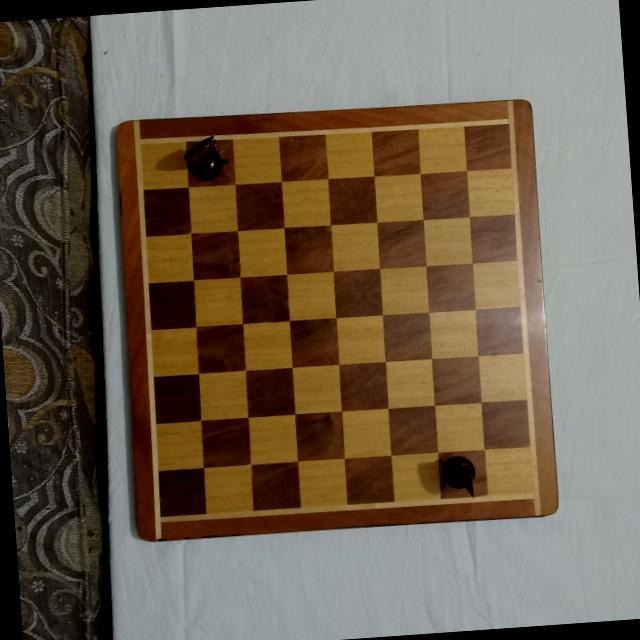black-knight: (180, 135, 226, 185), (438, 454, 477, 498)
